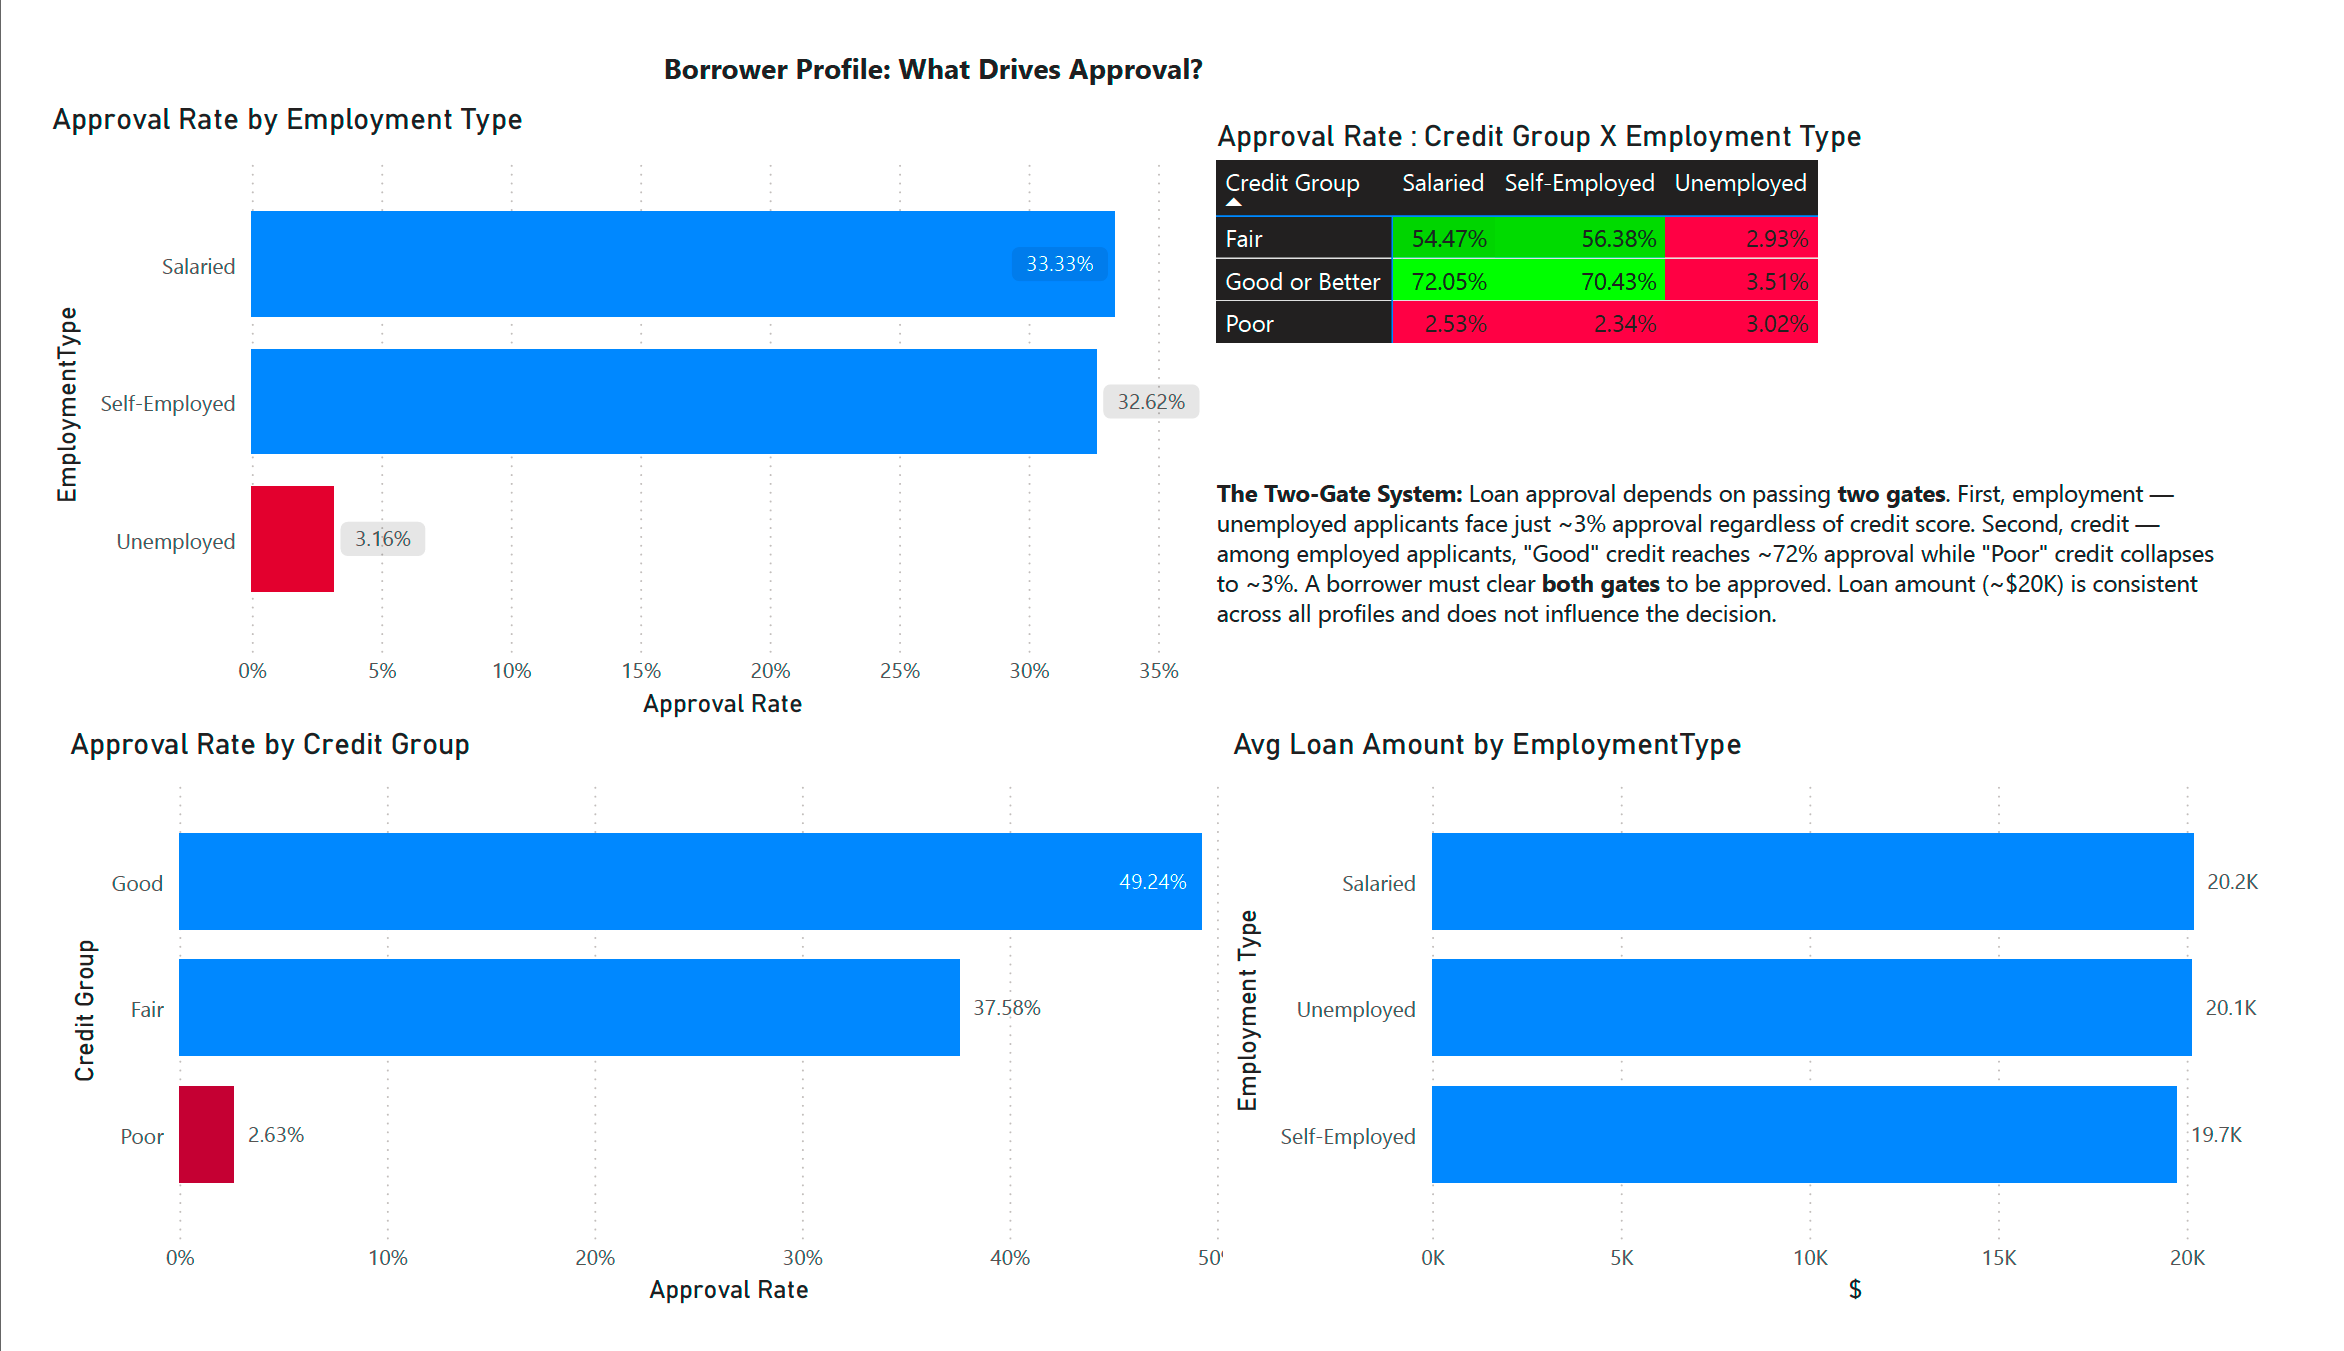

This screenshot's page, from the dashboard's own definition file:
{"tool":"powerbi","page":{"name":"Borrower Profile","canvas":[1280,720],"ordinal":1},"visuals":[{"type":"barChart","title":"Approval Rate by Employment Type","fields":{"Category":["loan_clean.EmploymentType"],"Y":["Avg(loan_clean.LoanApproved)"]},"box":[0,34,668,354.4],"z":0},{"type":"pivotTable","title":"Approval Rate : Credit Group  X Employment Type","fields":{"Columns":["Approval_by_employement.Employement type"],"Rows":["Approval_by_employement.Credit Teir"],"Values":["Avg(Approval_by_employement.Approved %)"]},"box":[659.4,43.9,566,236.3],"z":1},{"type":"barChart","title":"Approval Rate by Credit Group","fields":{"Category":["loan_clean.Credit Teri"],"Y":["Avg(loan_clean.LoanApproved)"]},"box":[9.9,388.5,706.4,331.5],"z":2},{"type":"barChart","title":"Avg Loan Amount by EmploymentType","fields":{"Category":["loan_clean.EmploymentType"],"Y":["Avg(loan_clean.LoanAmount)"]},"box":[668,388.5,611.8,331.5],"z":3},{"type":"textbox","box":[346.4,0,398.4,38.4],"z":4},{"type":"textbox","box":[659.4,242.5,580.2,117.5],"z":5}]}

Visuals, with their boxes in screenshot pixels (x1, y1, x2, y2), scaled from the page's 1280x720 canvas onto the 2344x1351 screenshot:
"Approval Rate by Employment Type" barChart: left=0, top=64, right=1223, bottom=729
"Approval Rate : Credit Group  X Employment Type" pivotTable: left=1208, top=82, right=2244, bottom=526
"Approval Rate by Credit Group" barChart: left=18, top=729, right=1312, bottom=1350
"Avg Loan Amount by EmploymentType" barChart: left=1223, top=729, right=2343, bottom=1350
textbox: left=634, top=0, right=1364, bottom=72
textbox: left=1208, top=455, right=2270, bottom=676
